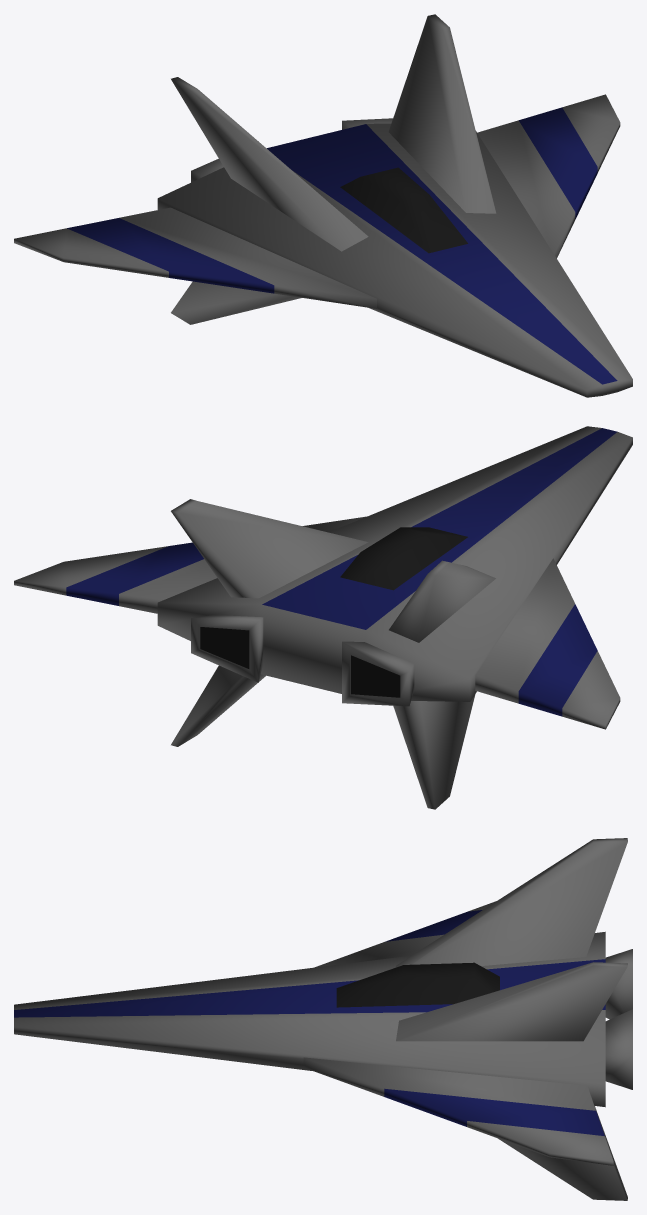
The model's file is BluePlane.obj.
The picture shows the model from 3 angles, top to bottom: view 1: azimuth 30°, elevation 25°; view 2: azimuth 150°, elevation 25°; view 3: azimuth 270°, elevation 25°; orthographic projection.
Parts seen in each view (by area): view 1: Lo_poly_Spaceship_01_by_Liz_Reddington; view 2: Lo_poly_Spaceship_01_by_Liz_Reddington; view 3: Lo_poly_Spaceship_01_by_Liz_Reddington.
Boxes of the visible parts, bbox=[...] form: Lo_poly_Spaceship_01_by_Liz_Reddington: bbox=[14, 14, 632, 397]; Lo_poly_Spaceship_01_by_Liz_Reddington: bbox=[14, 426, 632, 809]; Lo_poly_Spaceship_01_by_Liz_Reddington: bbox=[14, 838, 632, 1200].
Size of the model in its own units: 33.85 by 12.8 by 30.69.
